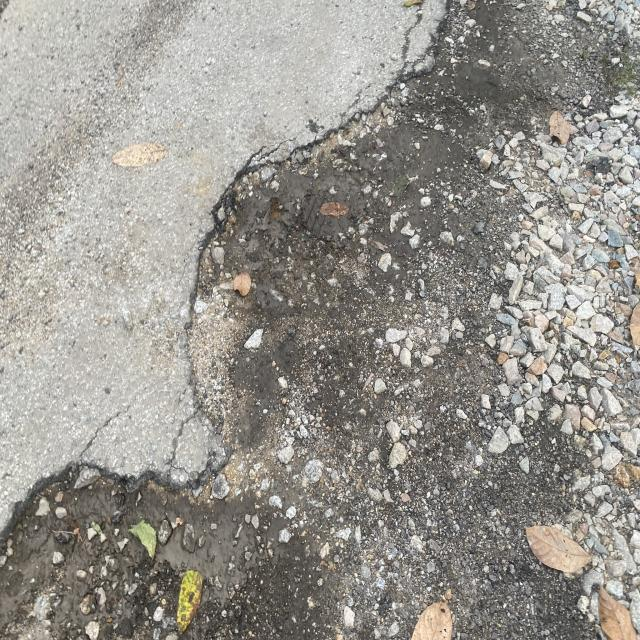Pothole: (173, 162, 368, 348), (2, 446, 210, 610)
